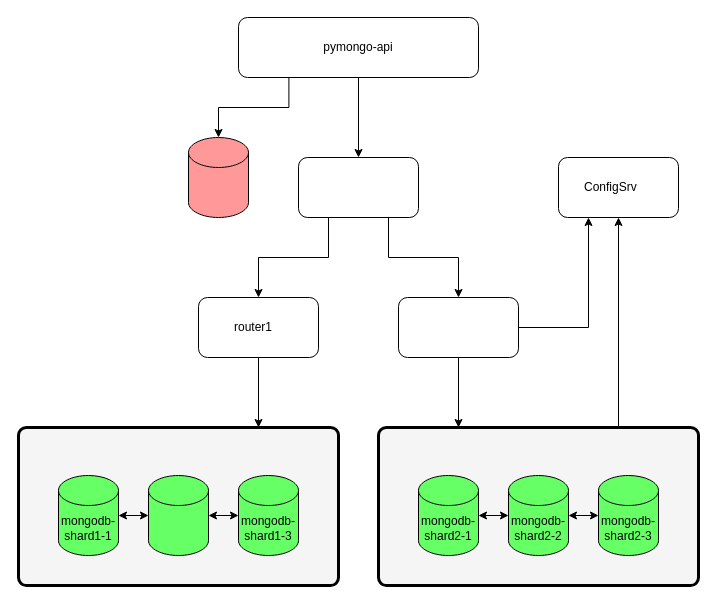
Image size: 717x604. Some labels were removed from this diagram. Each missing label, with the centre of its shape:
"driver" goes at point 358,187.
"mongodb-shard1-2" goes at point 178,515.
"Redis" goes at point 218,177.
"router2" goes at point 458,327.
